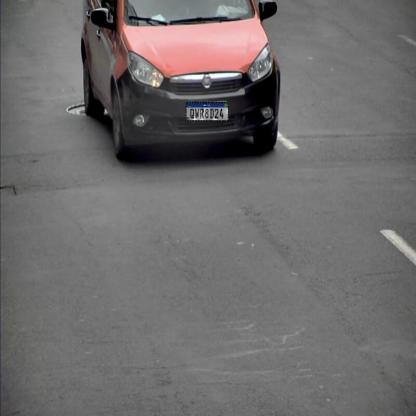PlacaM: (186, 102, 228, 121)
